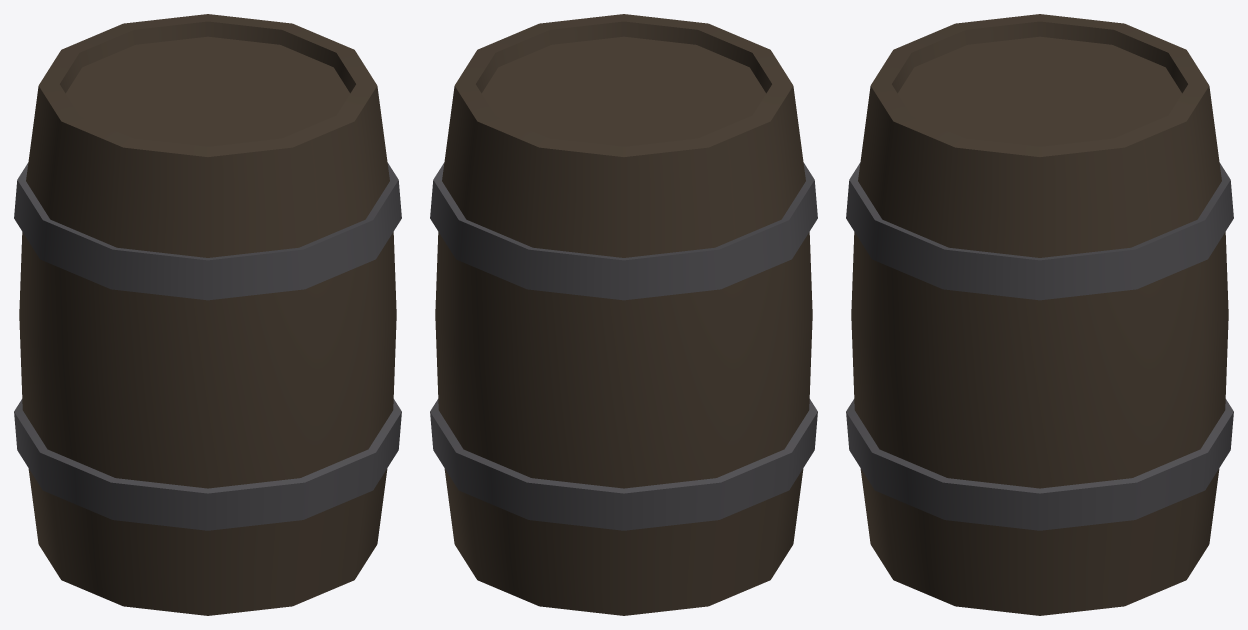
The model's file is SM_Barrel.fbx.
3 renders of one model, left to right at view 1: azimuth 30°, elevation 25°; view 2: azimuth 150°, elevation 25°; view 3: azimuth 270°, elevation 25°, orthographic.
Visible parts, largest first — view 1: SM_Barrel; view 2: SM_Barrel; view 3: SM_Barrel.
Part boxes in pixels (x1,y1,x2,y2): SM_Barrel: (14,14,401,615); SM_Barrel: (430,14,817,615); SM_Barrel: (846,14,1233,615).
Size of the model in its own units: 81.7 by 107 by 81.7.
